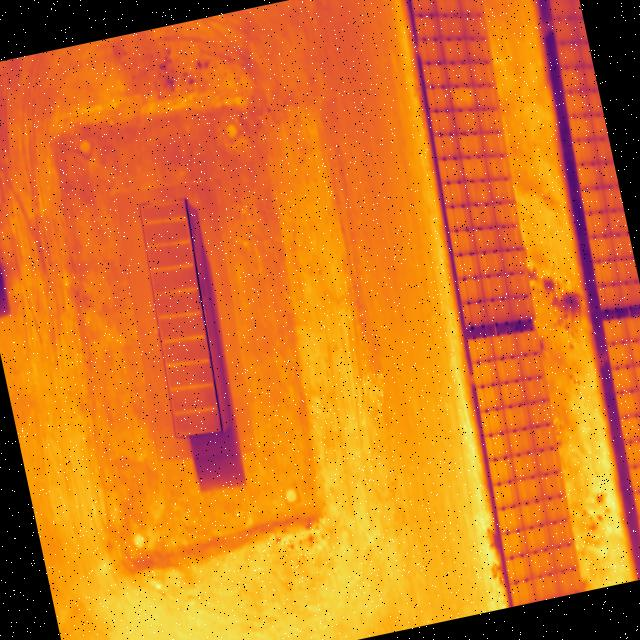Hotspot: (452, 86, 476, 109)
